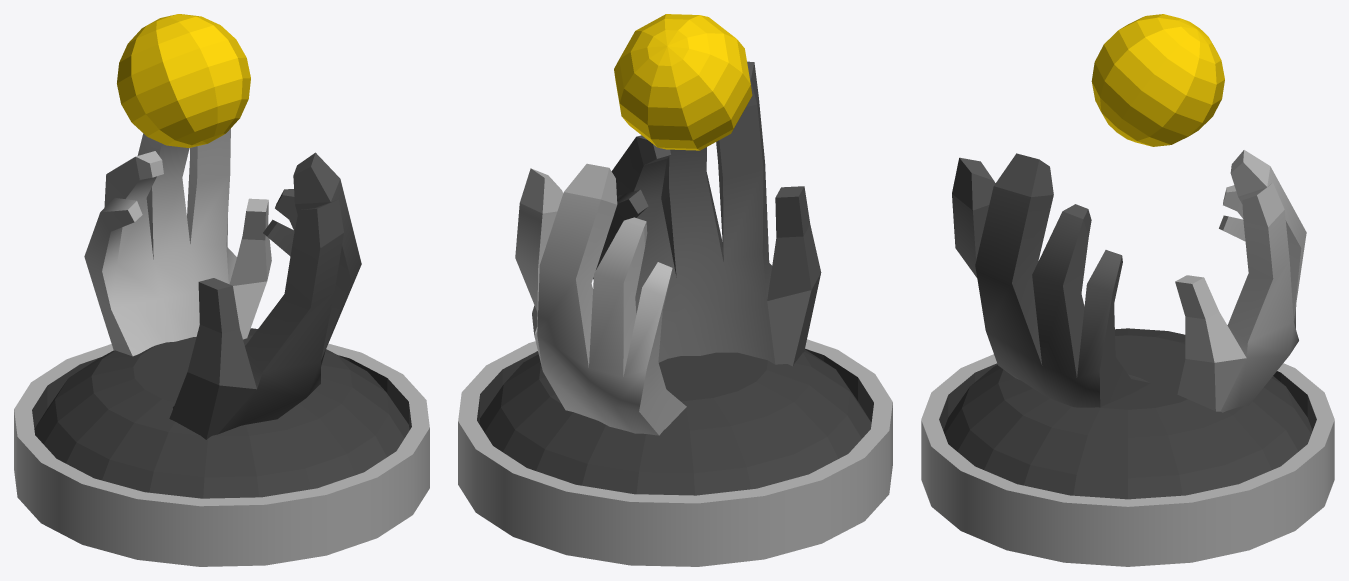
Rendered from Greed.fbx.
3 views of the same model, side by side, from view 1: azimuth 30°, elevation 25°; view 2: azimuth 150°, elevation 25°; view 3: azimuth 270°, elevation 25° (orthographic). The views are drawn at different scales.
Visible parts, largest first — view 1: pCube5; view 2: pCube5; view 3: pCube5.
Part boxes in pixels (box(x1,y1,x2,y2)): pCube5: box(14, 14, 429, 566); pCube5: box(458, 14, 892, 566); pCube5: box(921, 14, 1334, 566).
Bounding box in the file's own units: 6.2 × 7.42 × 6.2.
